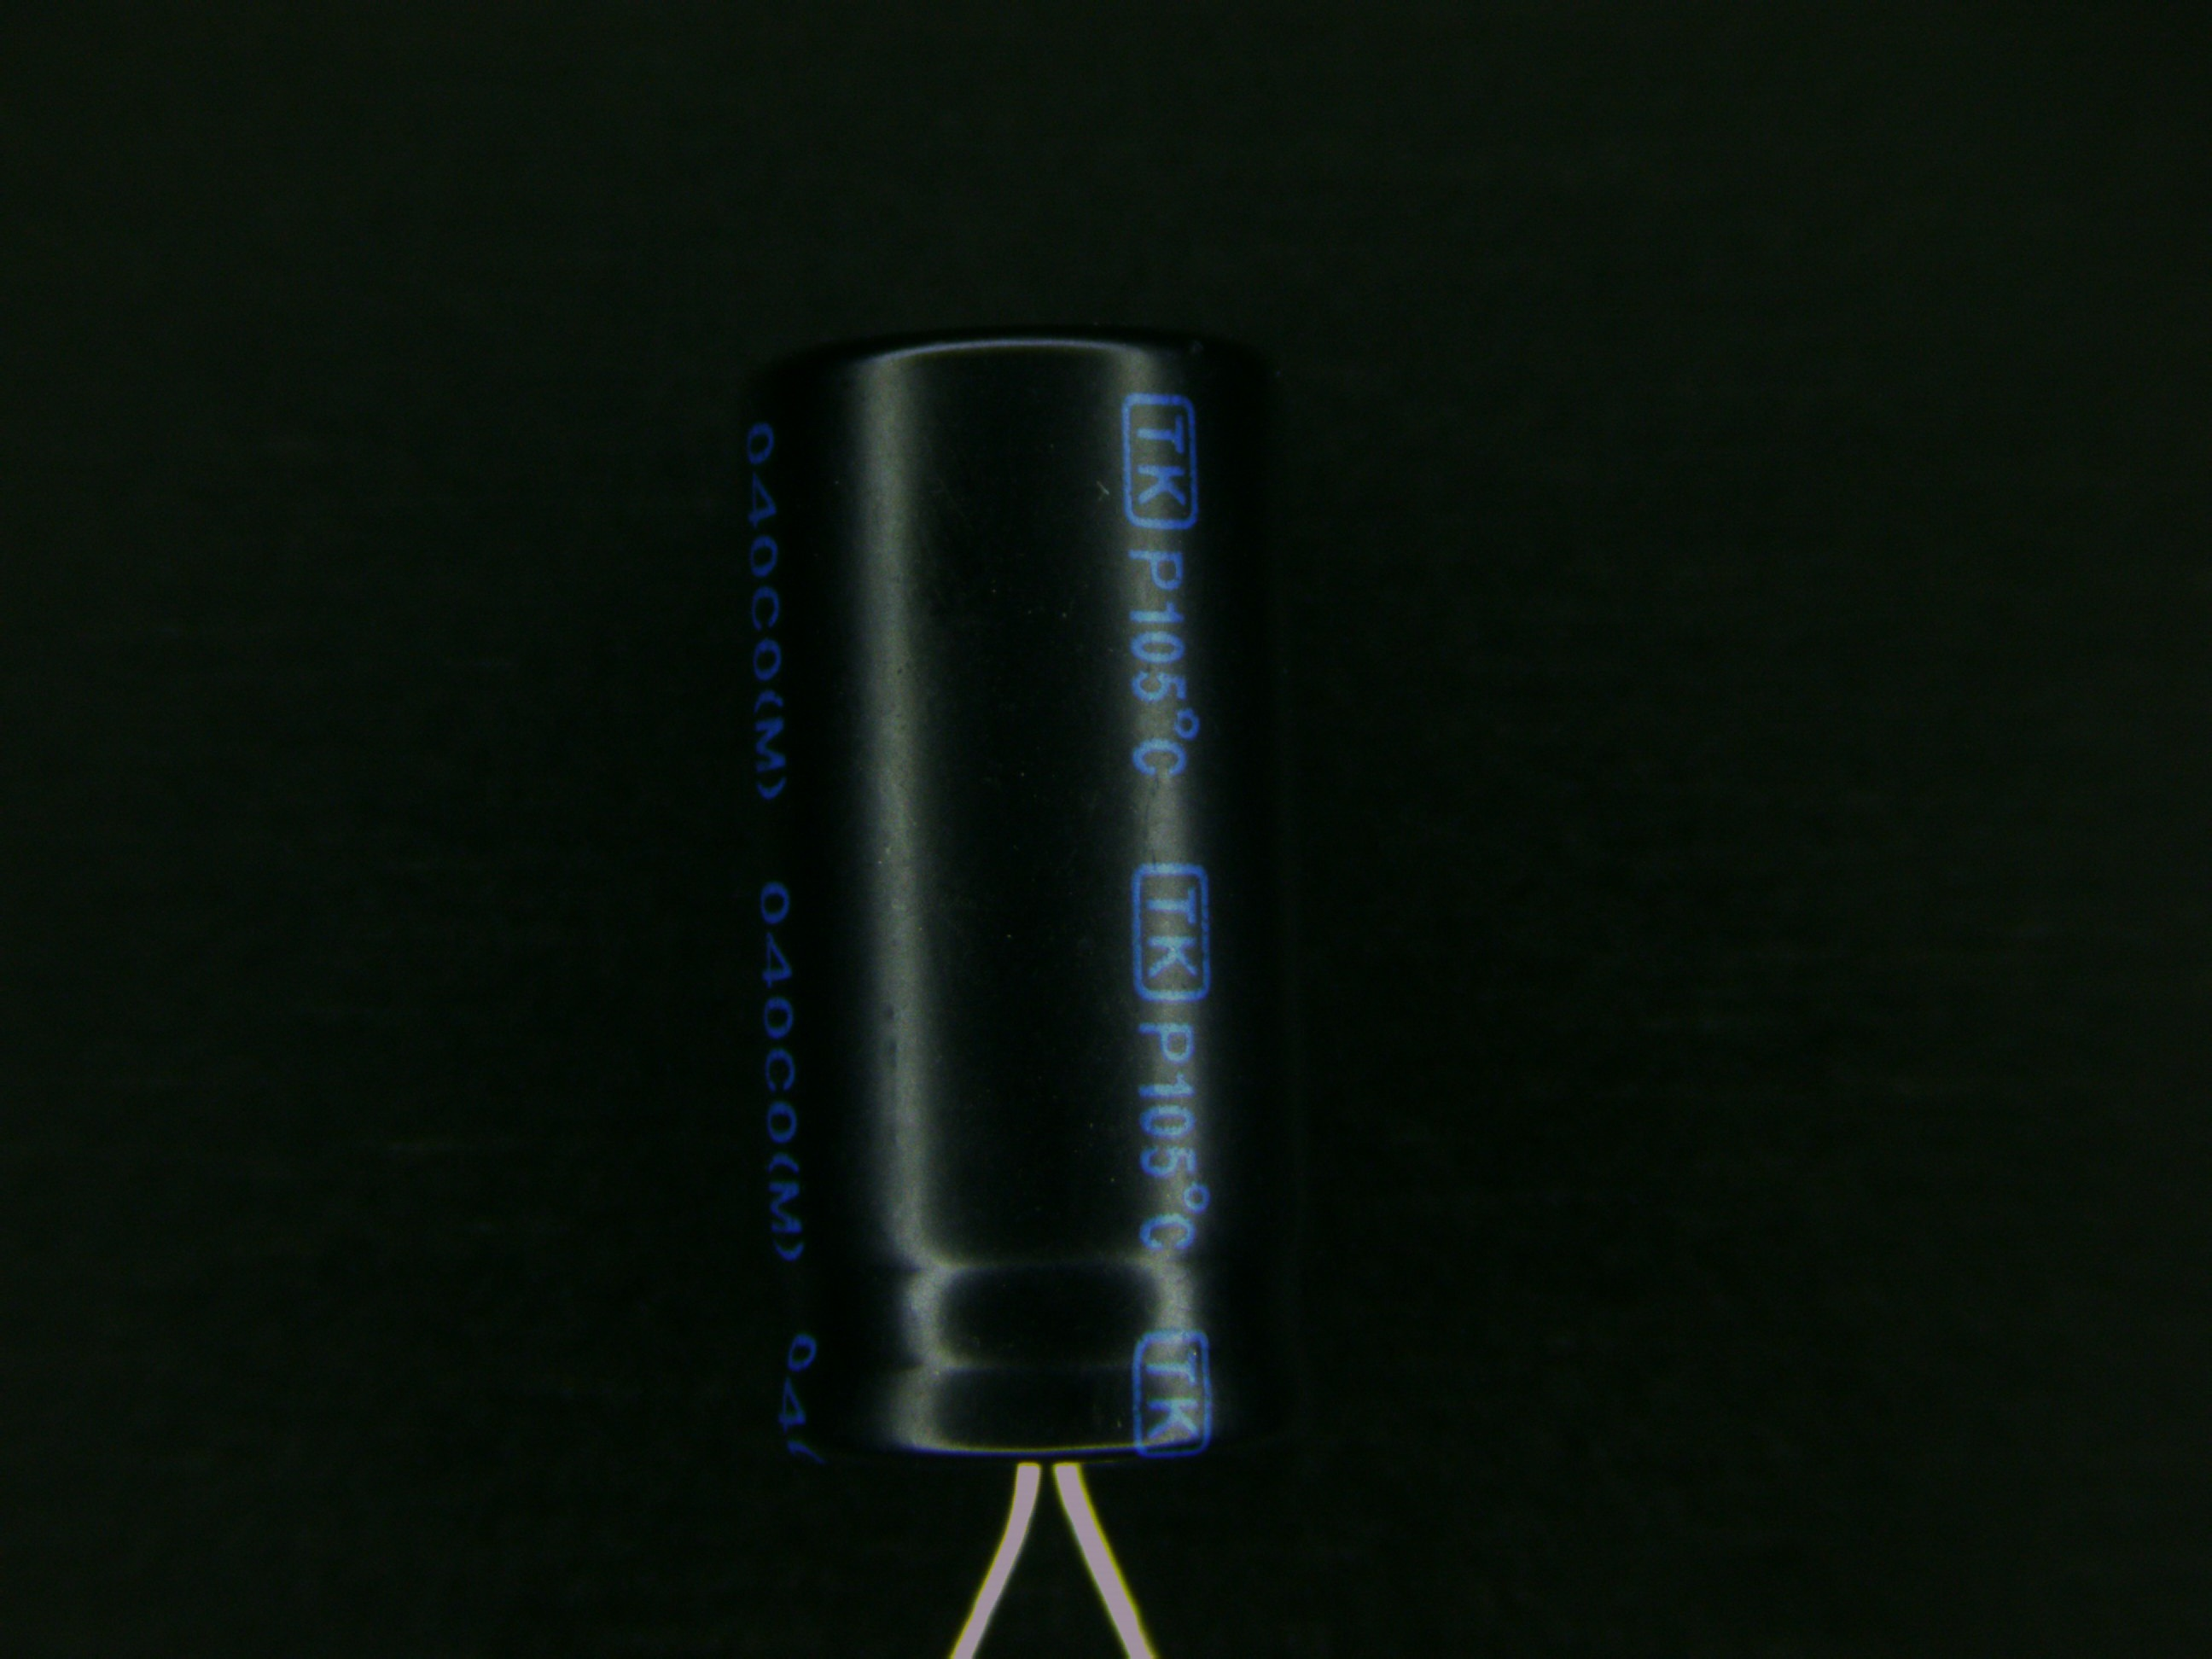c2: (718, 326, 1313, 1568)
